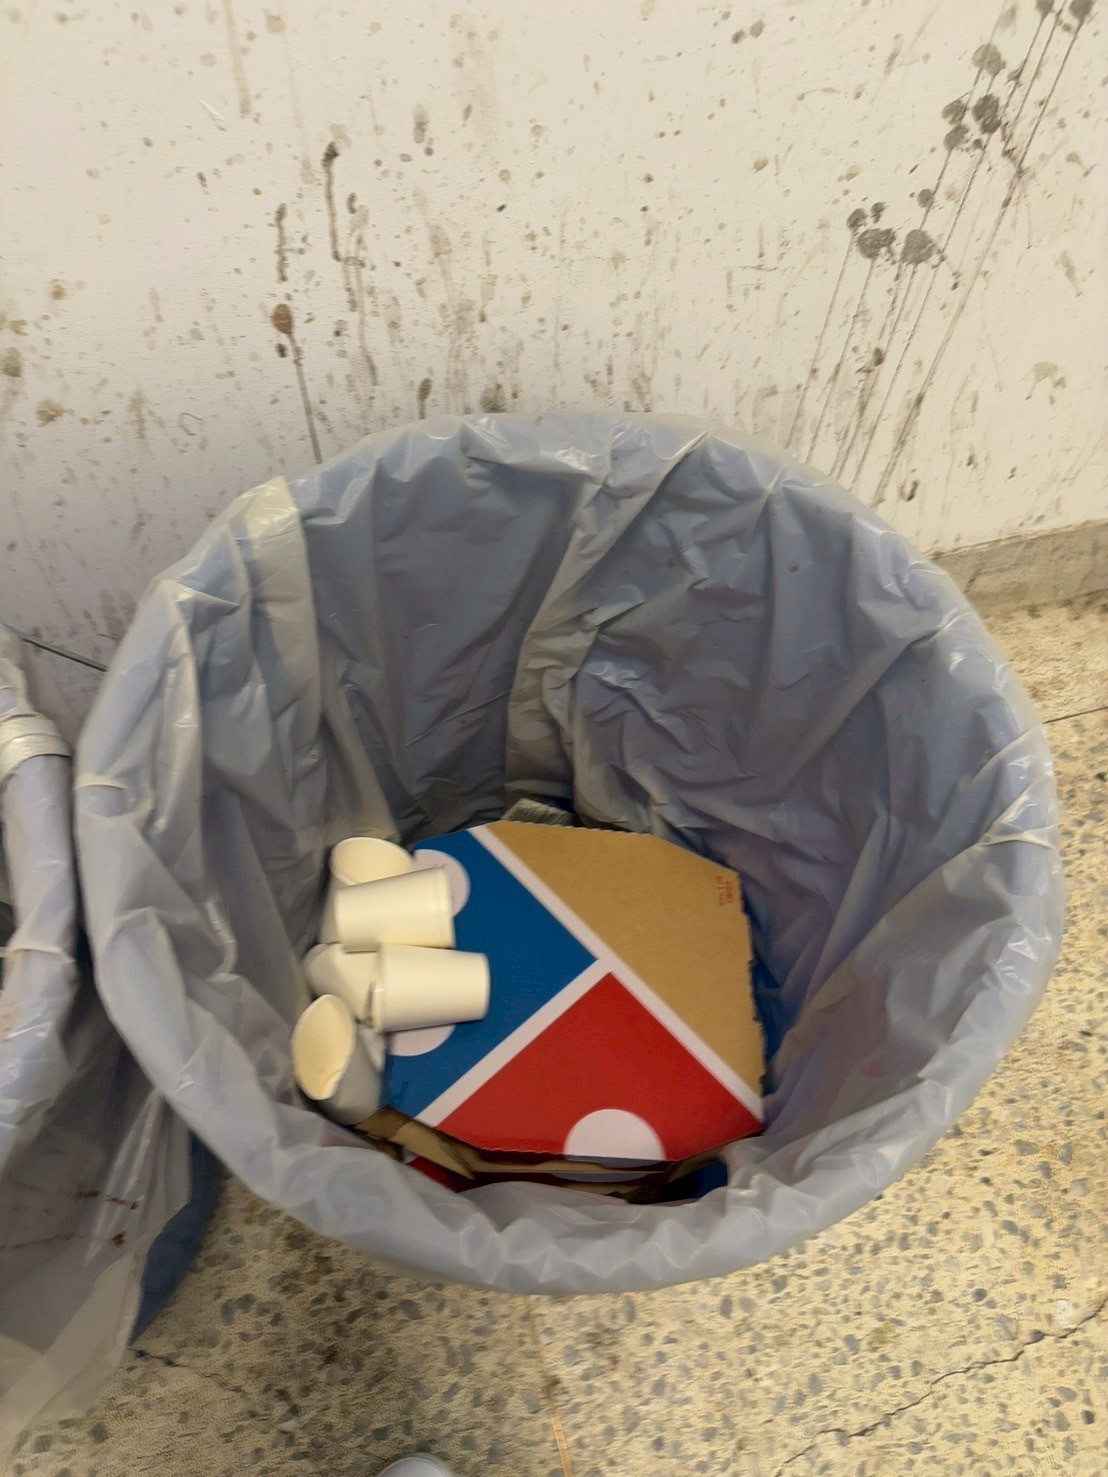normal_bin: (76, 395, 1071, 1306)
